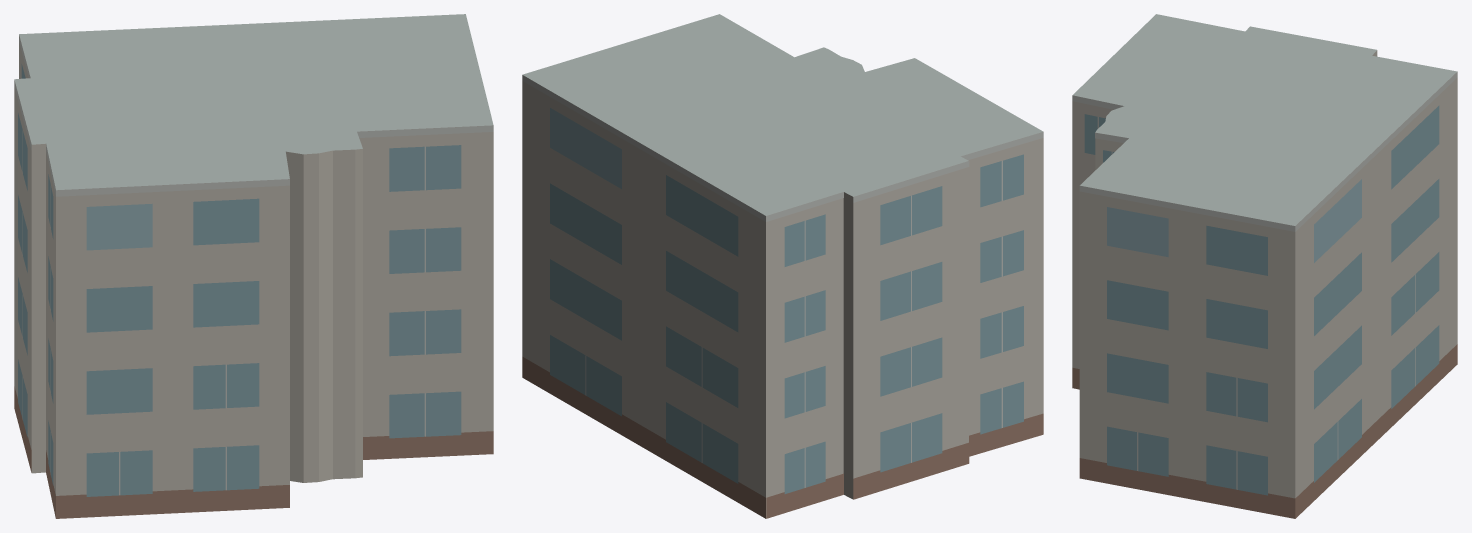
File: survey-upis-32521923.glb
3 views of the same model, side by side, from view 1: azimuth 30°, elevation 25°; view 2: azimuth 150°, elevation 25°; view 3: azimuth 270°, elevation 25° (orthographic). The views are drawn at different scales.
Visible parts, largest first — view 1: survey-upis-32521923.tmp; view 2: survey-upis-32521923.tmp; view 3: survey-upis-32521923.tmp.
Boxes of the visible parts, x1=… form: survey-upis-32521923.tmp: x1=14, y1=14, x2=493, y2=518; survey-upis-32521923.tmp: x1=522, y1=14, x2=1043, y2=518; survey-upis-32521923.tmp: x1=1072, y1=14, x2=1457, y2=518.
Bounding box in the file's own units: 18.96 × 12.2 × 14.56.
